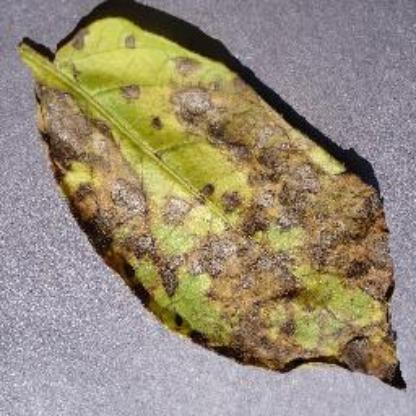Early-Blight: (20, 13, 408, 389)
